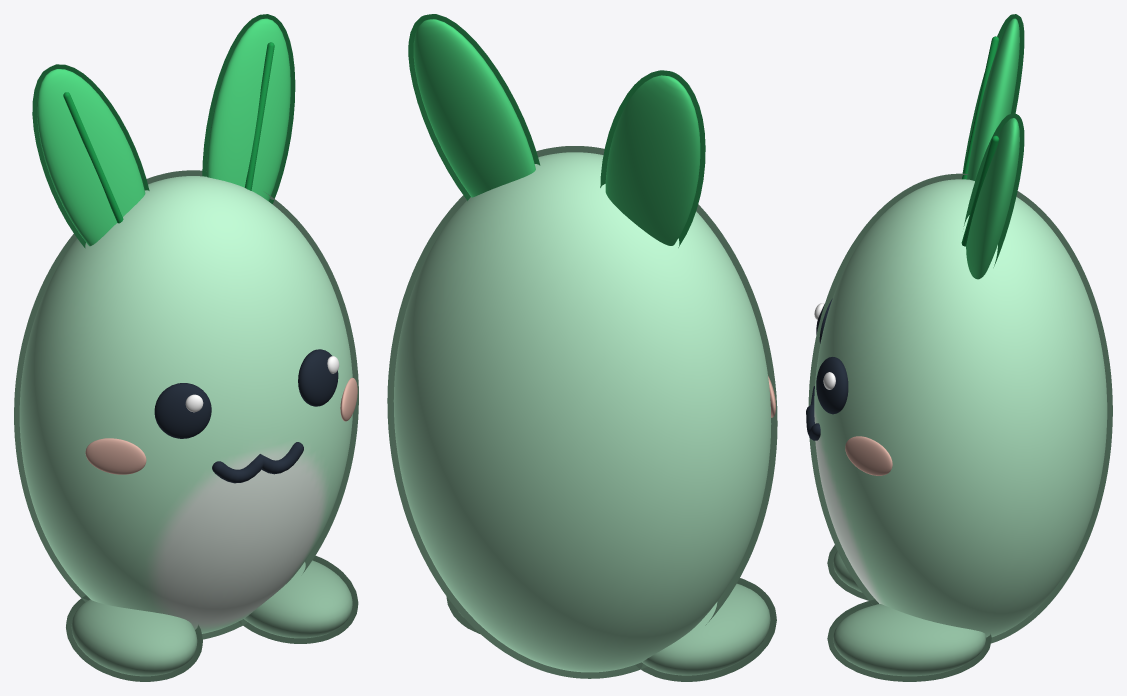
The model's file is leaf.glb.
3 views of the same model, side by side, from view 1: azimuth 30°, elevation 25°; view 2: azimuth 150°, elevation 25°; view 3: azimuth 270°, elevation 25° (orthographic). The views are drawn at different scales.
Visible parts, largest first — view 1: body, leaf_ear, leaf_ear.001, foot, foot.001, eye, cheek, eye.001, mouth, vein.001, vein, cheek.001; view 2: body, leaf_ear.001, leaf_ear, foot; view 3: body, foot.001, leaf_ear.001, leaf_ear, cheek.001, eye.001, foot, vein, vein.001.
Boxes of the visible parts, box(x1,y1,x2,y2) form: body: box(14, 170, 358, 639); leaf_ear: box(32, 64, 149, 248); leaf_ear.001: box(202, 14, 295, 203); foot: box(66, 595, 202, 681); foot.001: box(238, 555, 358, 643); eye: box(154, 383, 211, 438); cheek: box(85, 438, 146, 474); eye.001: box(298, 349, 338, 406); mouth: box(212, 442, 303, 483); vein.001: box(245, 42, 274, 190); vein: box(63, 92, 123, 223); cheek.001: box(340, 377, 357, 421); body: box(387, 146, 777, 678); leaf_ear.001: box(408, 14, 540, 200); leaf_ear: box(600, 70, 705, 247); foot: box(635, 578, 776, 681); body: box(808, 173, 1112, 643); foot.001: box(827, 599, 991, 681); leaf_ear.001: box(963, 113, 1024, 279); leaf_ear: box(962, 14, 1024, 180); cheek.001: box(845, 436, 892, 475); eye.001: box(816, 357, 848, 414); foot: box(827, 545, 868, 600); vein: box(962, 36, 999, 179); vein.001: box(961, 135, 999, 246).
Size of the model in its own units: 1.39 by 2.46 by 1.2.
